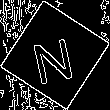N_N: (30, 26, 80, 84)
